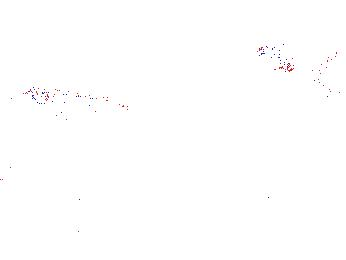glassfish: (22, 82, 141, 119)
redtail glassfish: (280, 42, 333, 72), (256, 38, 296, 73)
